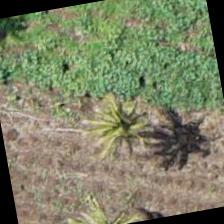Kelapa_Sawit: (74, 81, 178, 185)
